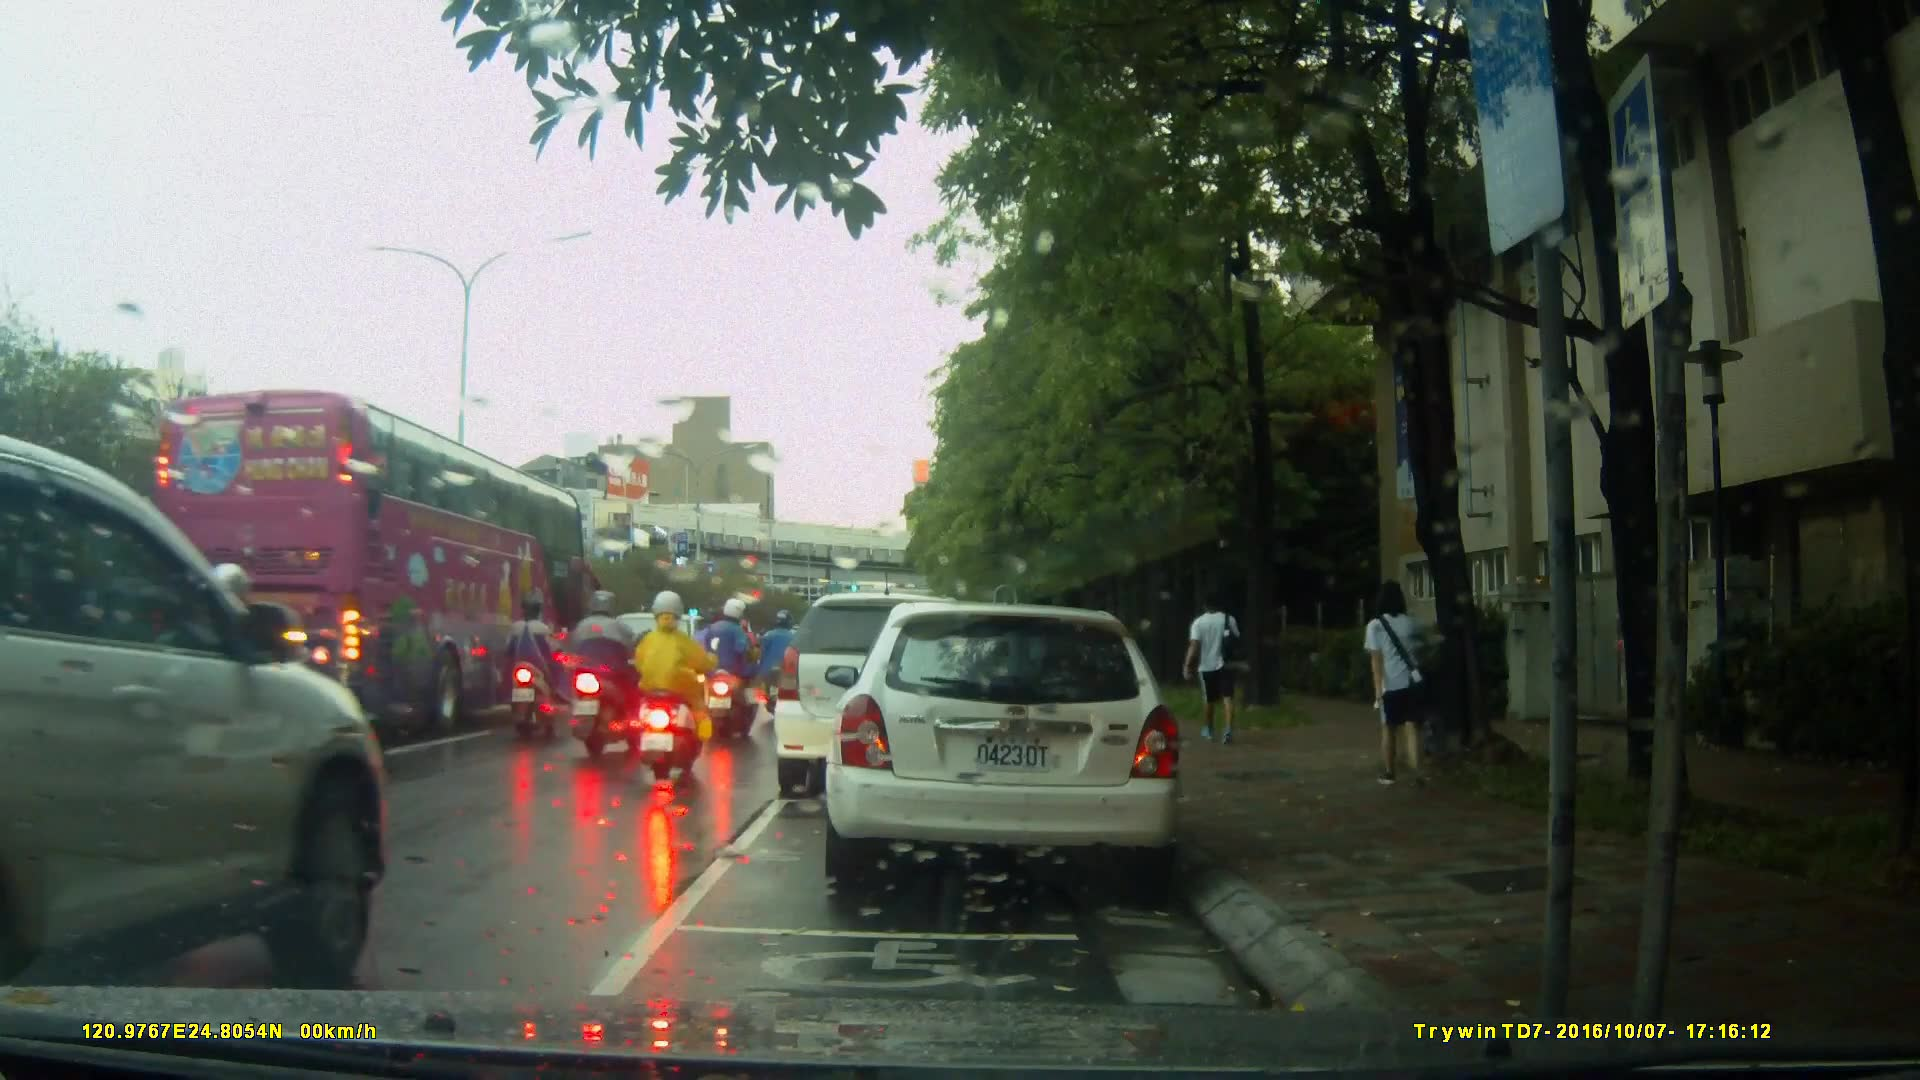pedestrian: (1354, 576, 1440, 798), (1176, 582, 1236, 747)
rider: (641, 594, 718, 788), (571, 584, 640, 758), (700, 598, 761, 750), (509, 593, 564, 740), (759, 609, 817, 728)
vehicle: (1, 432, 398, 987), (150, 385, 593, 733), (835, 594, 1194, 898), (776, 590, 1026, 784), (591, 611, 728, 725)
